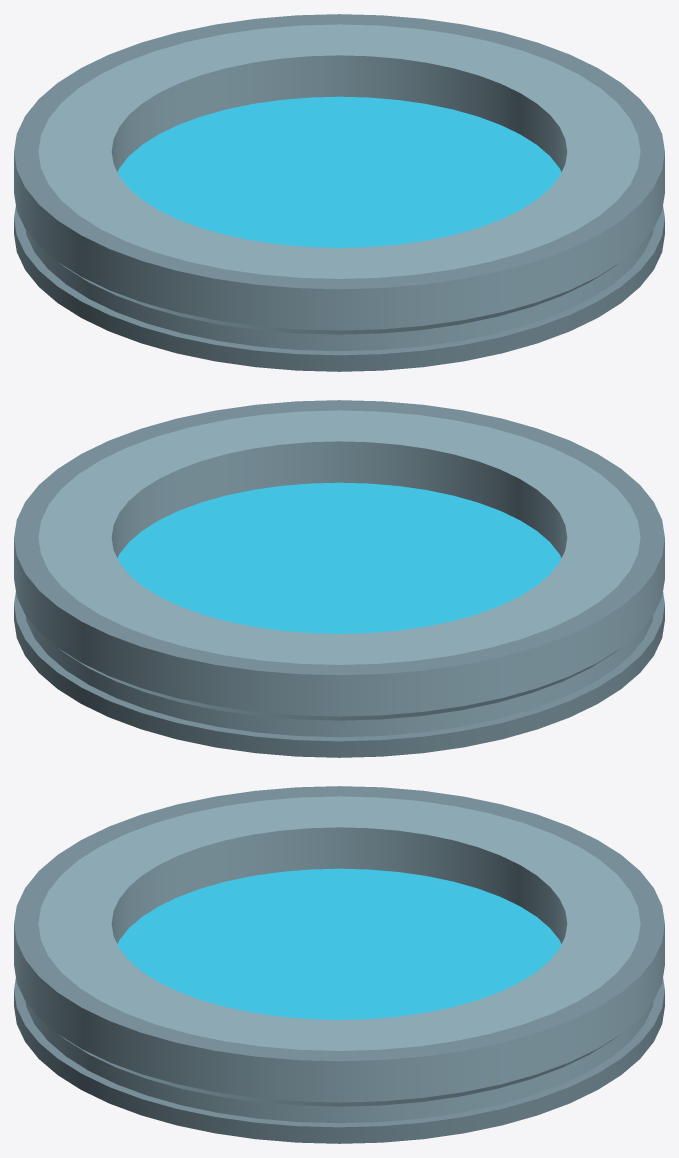
The model's file is d_kenney_fontaine.glb.
3 renders of one model, top to bottom at view 1: azimuth 30°, elevation 25°; view 2: azimuth 150°, elevation 25°; view 3: azimuth 270°, elevation 25°, orthographic.
Visible parts, largest first — view 1: d_kenney_fontaine; view 2: d_kenney_fontaine; view 3: d_kenney_fontaine.
Boxes of the visible parts, x1,y1,x2,y2 form: d_kenney_fontaine: [14, 14, 664, 371]; d_kenney_fontaine: [14, 400, 664, 757]; d_kenney_fontaine: [14, 786, 664, 1143].
Size of the model in its own units: 2 by 0.28 by 2.
1 material, 1 textured.
